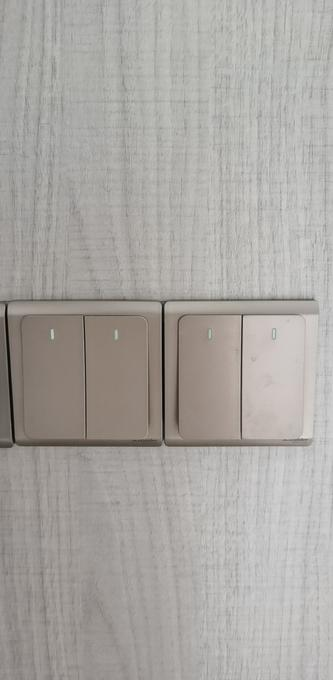switch: (13, 307, 98, 446), (78, 308, 160, 443), (237, 308, 311, 447), (174, 309, 249, 444)
